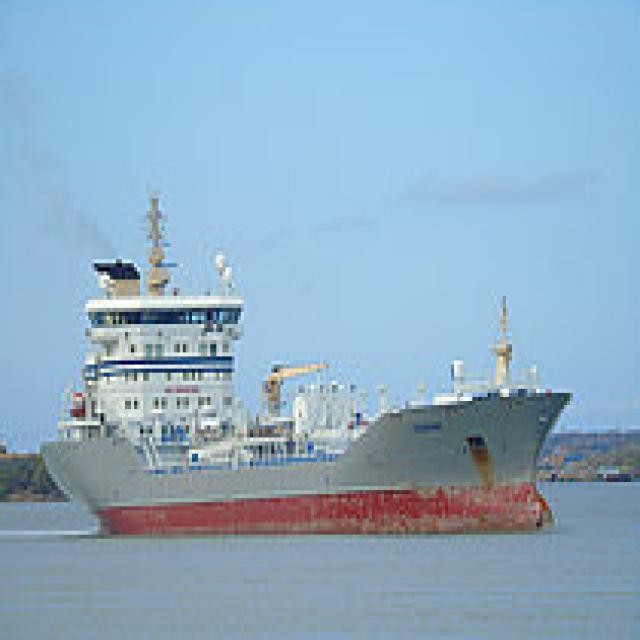Tanker: (33, 186, 570, 531)
